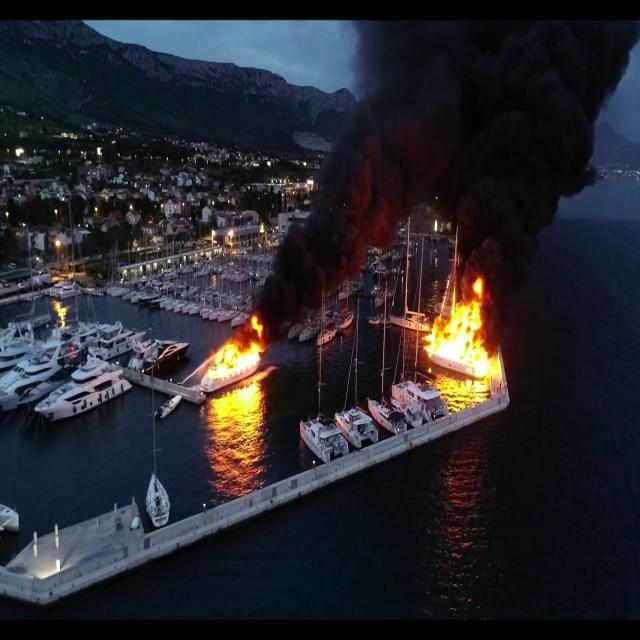Fire: (420, 278, 502, 380), (200, 319, 268, 382)
Smoke: (265, 12, 633, 259)
